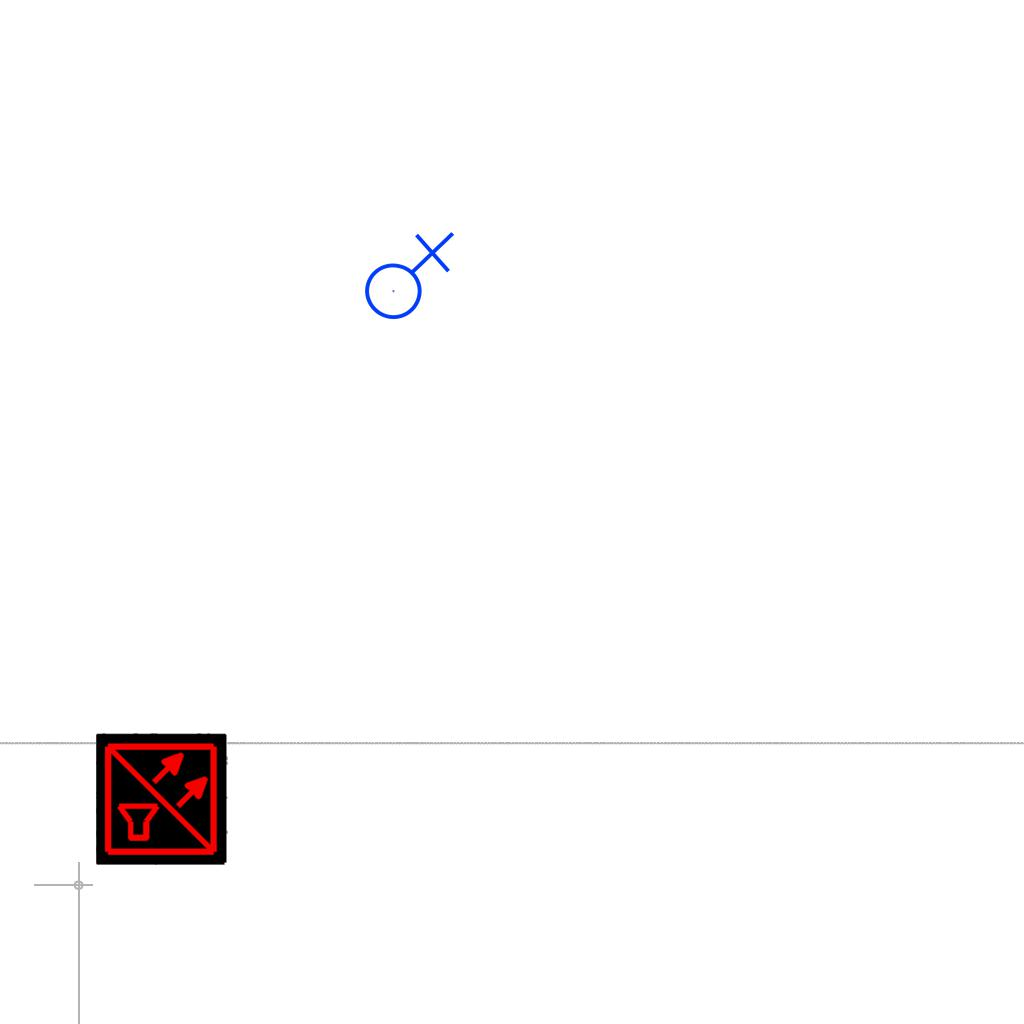Elektroanschluss_allgemein_230V_Geraeteanschlussdose_230V: (356, 227, 455, 321)
OKW_Multisensormelder_(Kombination_optischer_Rauch-Kahlenmonoxid_Waerme-Melder): (96, 733, 228, 865)
